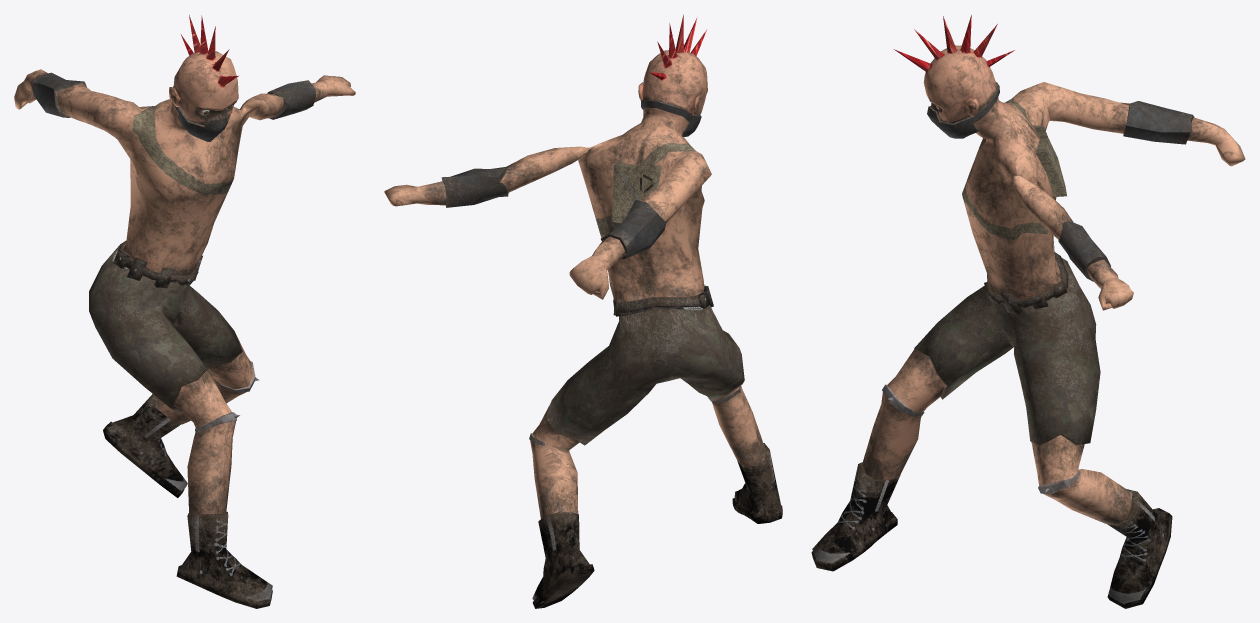
File: Anim_arma_c_npc2.0029.obj
3 views of the same model, side by side, from view 1: azimuth 30°, elevation 25°; view 2: azimuth 150°, elevation 25°; view 3: azimuth 270°, elevation 25° (orthographic). The views are drawn at different scales.
Parts seen in each view (by area): view 1: polySurface1; view 2: polySurface1; view 3: polySurface1.
Boxes of the visible parts, left/top/right/bottom form: polySurface1: left=14, top=15, right=355, bottom=608; polySurface1: left=384, top=14, right=782, bottom=608; polySurface1: left=811, top=15, right=1245, bottom=608.
Size of the model in its own units: 5.32 by 9.2 by 6.37.
